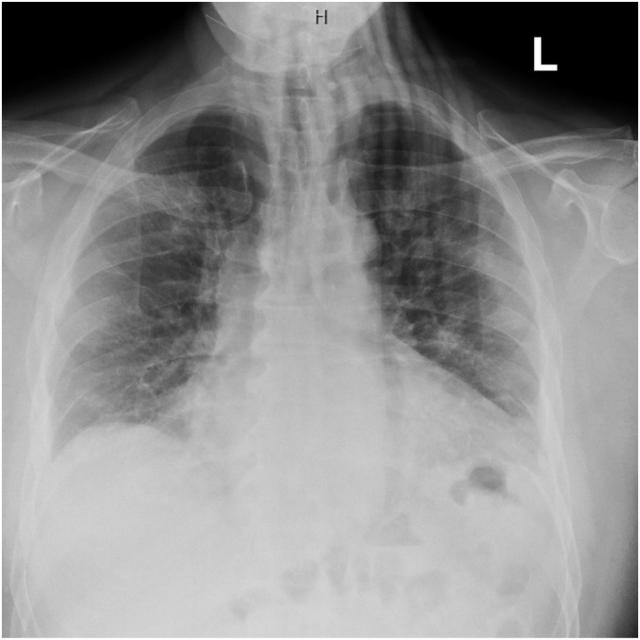abnormalities: (141, 360, 163, 377)
diaphragm: (49, 423, 544, 640)
heart: (192, 207, 454, 480)
left_lobe: (327, 95, 547, 436)
right_lobe: (44, 98, 277, 466)
